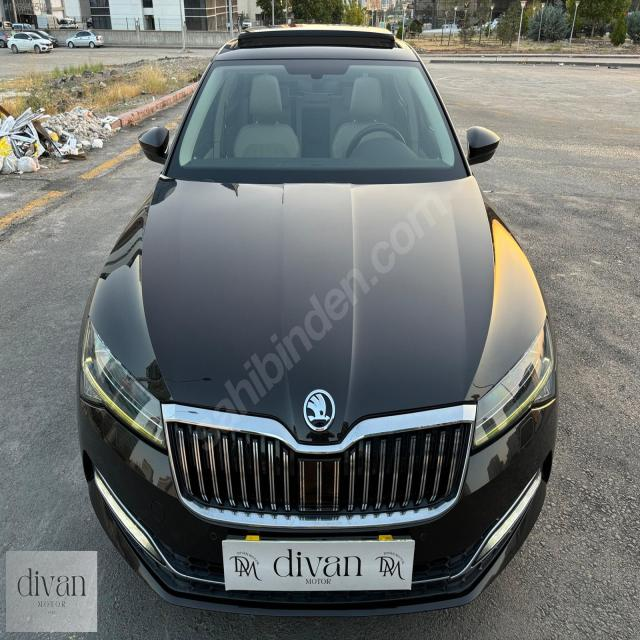skoda: (297, 390, 340, 430)
